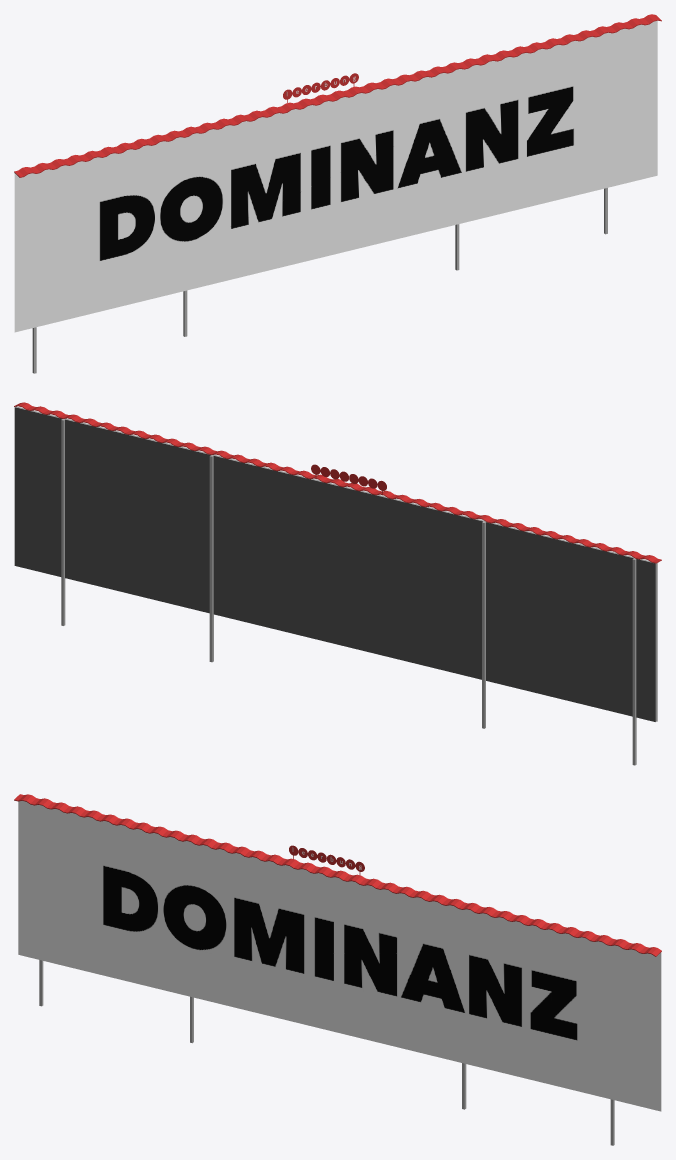
The model's file is dominance.glb.
3 renders of one model, top to bottom at view 1: azimuth 30°, elevation 25°; view 2: azimuth 150°, elevation 25°; view 3: azimuth 330°, elevation 25°, orthographic.
Parts seen in each view (by area): view 1: videotarget, Cube; view 2: Cube, videotarget; view 3: videotarget, Cube.
Boxes of the visible parts, x1,y1,x2,y2 form: videotarget: (14, 20, 657, 332); Cube: (14, 14, 661, 373); Cube: (14, 402, 661, 765); videotarget: (16, 406, 657, 721); videotarget: (18, 801, 661, 1111); Cube: (14, 794, 661, 1145).
Bounding box in the file's own units: 10.1 × 3.33 × 0.1942.
Materials: 2 (2 with a texture image).
